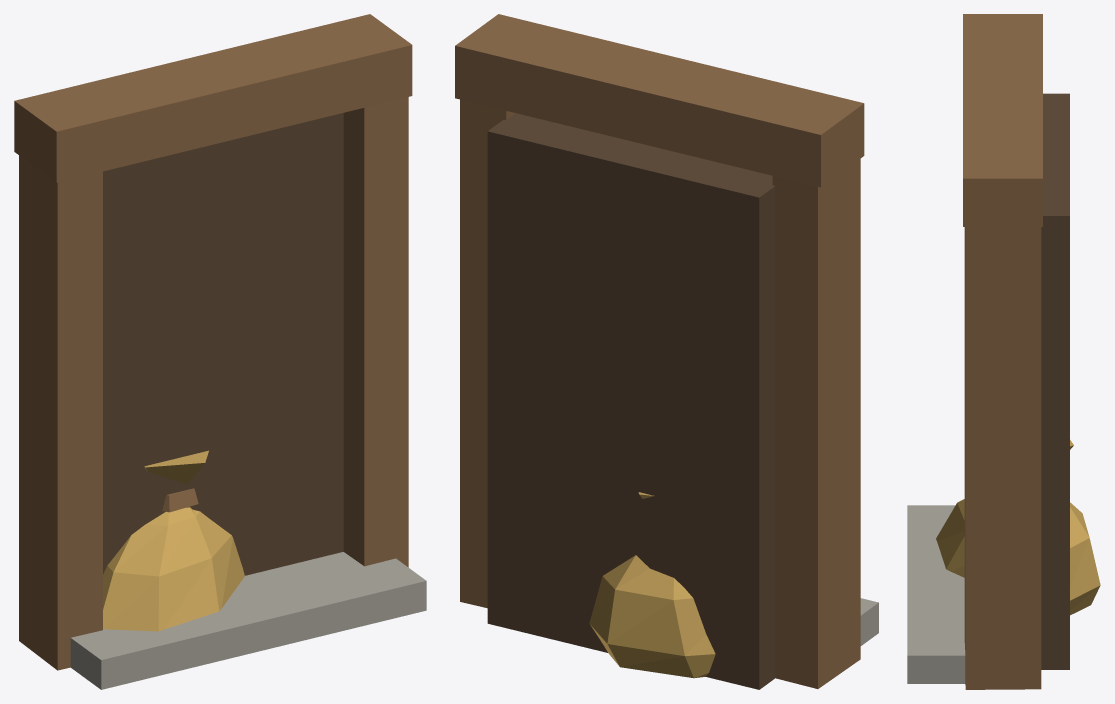
Rendered from work-doorway.glb.
3 renders of one model, left to right at view 1: azimuth 30°, elevation 25°; view 2: azimuth 150°, elevation 25°; view 3: azimuth 270°, elevation 25°, orthographic. The views are drawn at different scales.
Parts seen in each view (by area): view 1: work-doorway; view 2: work-doorway; view 3: work-doorway.
Boxes of the visible parts, box(x1,y1,x2,y2) form: work-doorway: box(14, 14, 426, 689); work-doorway: box(455, 14, 878, 689); work-doorway: box(907, 14, 1100, 689).
Bounding box in the file's own units: 1.75 × 2.54 × 0.8684.
1 material, 1 textured.
